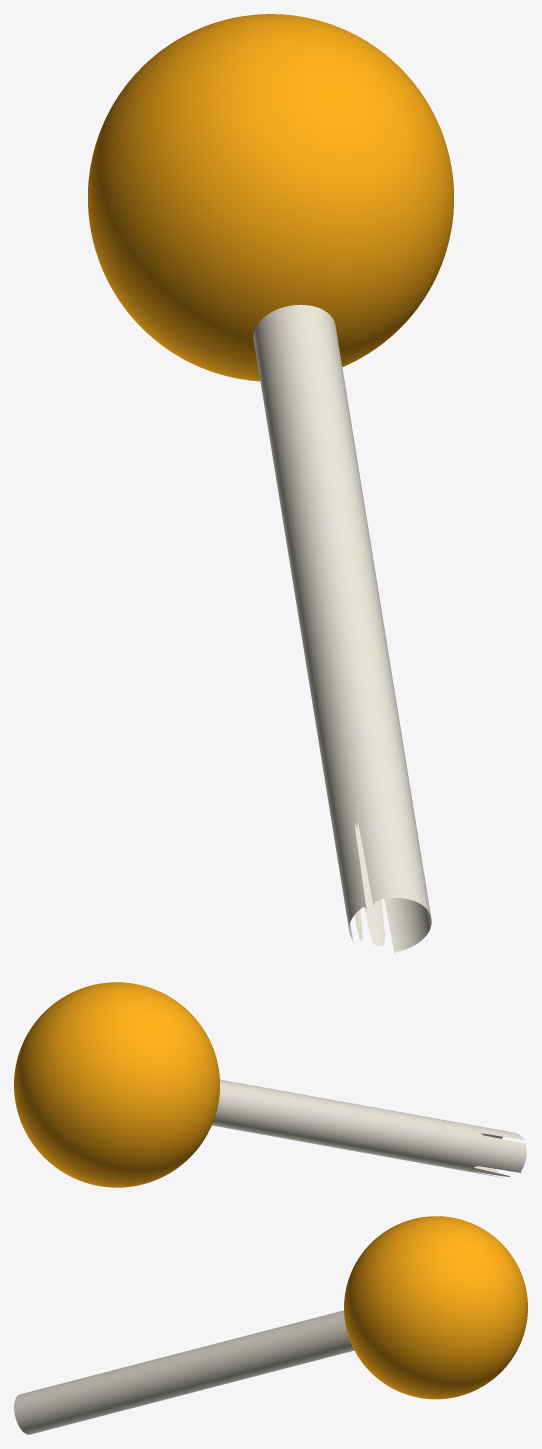
File: Lever.fbx
The picture shows the model from 3 angles, top to bottom: view 1: azimuth 30°, elevation 25°; view 2: azimuth 150°, elevation 25°; view 3: azimuth 270°, elevation 25°; orthographic projection. The views are drawn at different scales.
Parts seen in each view (by area): view 1: Lever_2, Lever_2.001; view 2: Lever_2, Lever_2.001; view 3: Lever_2, Lever_2.001.
Boxes of the visible parts, x1=… form: Lever_2: x1=88, y1=14, x2=453, y2=381; Lever_2.001: x1=253, y1=304, x2=431, y2=953; Lever_2: x1=14, y1=982, x2=219, y2=1187; Lever_2.001: x1=212, y1=1079, x2=527, y2=1177; Lever_2: x1=344, y1=1216, x2=527, y2=1399; Lever_2.001: x1=14, y1=1310, x2=354, y2=1434.
Bounding box in the file's own units: 7.59 × 8.35 × 13.97.
